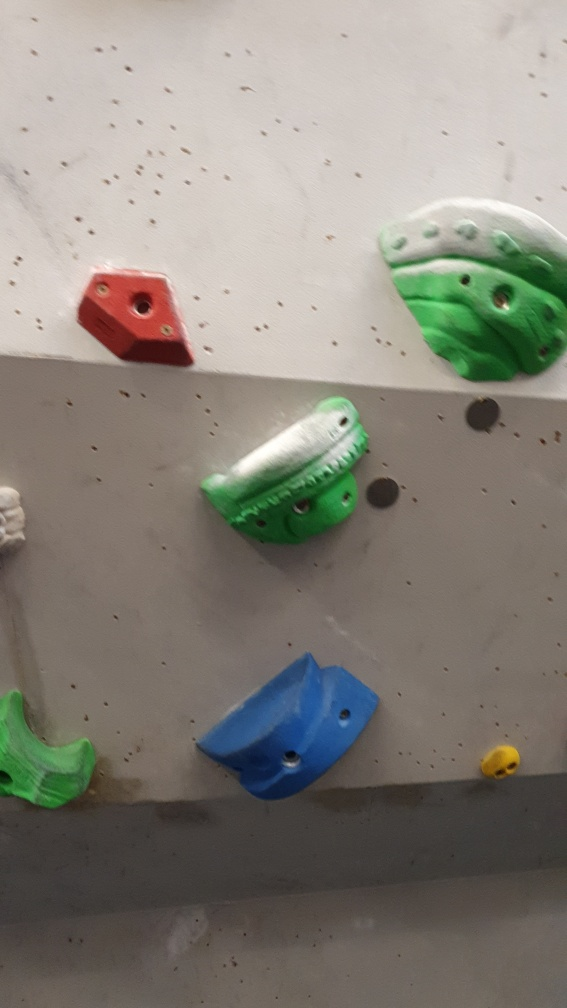Crimp: (71, 260, 199, 372)
Hand Start: (362, 472, 405, 520), (462, 392, 502, 438)
Jug: (371, 189, 567, 388), (196, 393, 374, 547), (1, 676, 100, 816)
Pinch: (190, 651, 386, 802)
